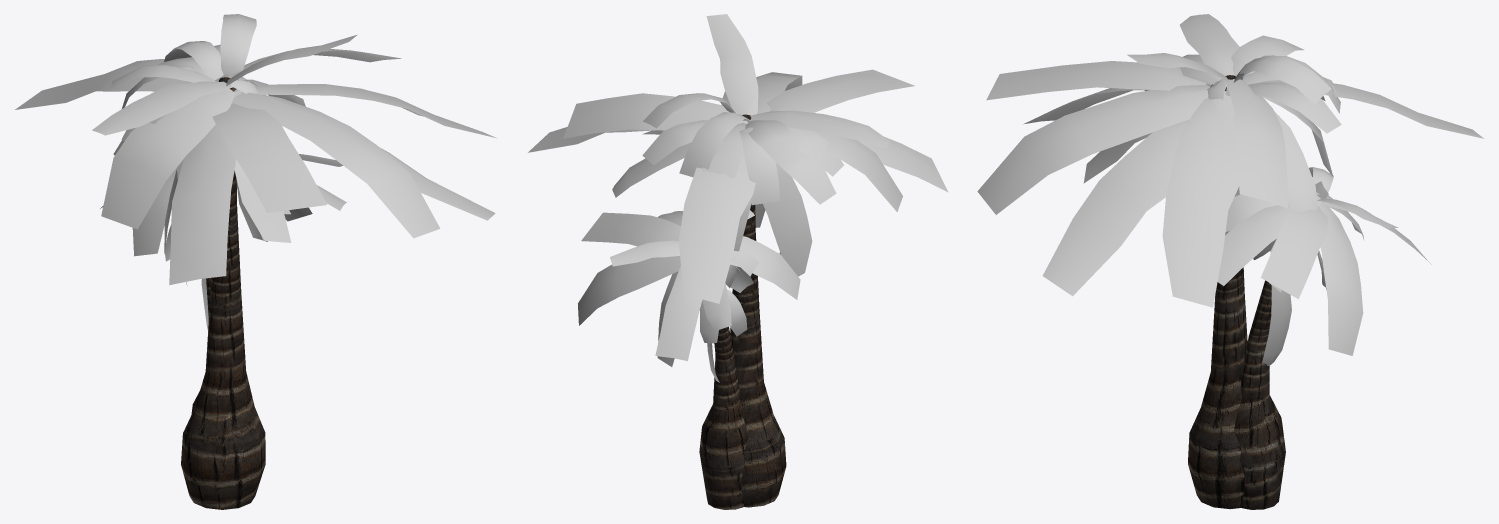
The model's file is mopalm02.FBX.
3 views of the same model, side by side, from view 1: azimuth 30°, elevation 25°; view 2: azimuth 150°, elevation 25°; view 3: azimuth 270°, elevation 25° (orthographic). The views are drawn at different scales.
Visible parts, largest first — view 1: leaves__2, mopalm02; view 2: leaves__2, mopalm02, branch; view 3: leaves__2, mopalm02, branch.
Part boxes in pixels (x1,y1,x2,y2): leaves__2: (15,14,497,330); mopalm02: (181,77,265,509); leaves__2: (528,14,948,382); mopalm02: (730,114,786,507); branch: (699,326,748,509); leaves__2: (977,14,1483,365); mopalm02: (1188,75,1247,509); branch: (1234,280,1285,509).
Bounding box in the file's own units: 31.09 × 35.65 × 34.32.
